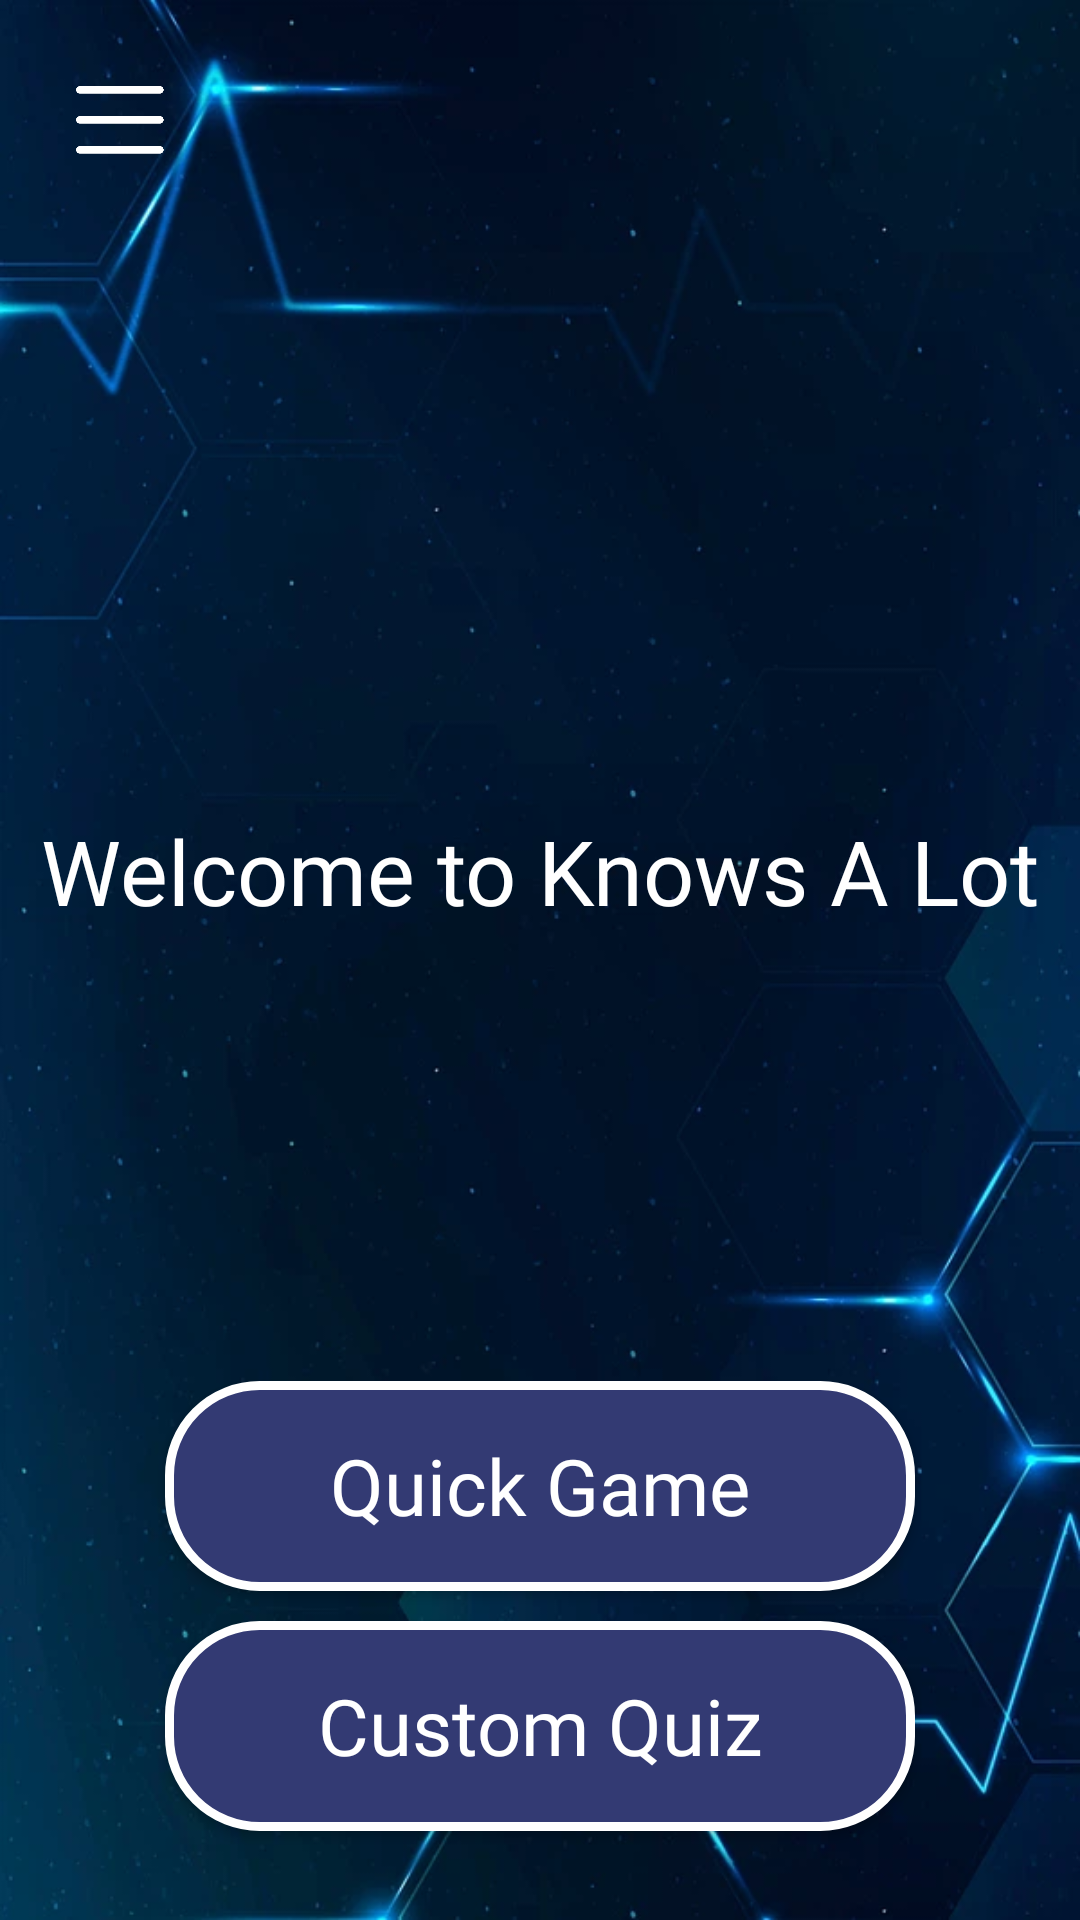

Where to tap for icons on this 1080px×1920px app screen, as (x,y):
menu: (120,113)
